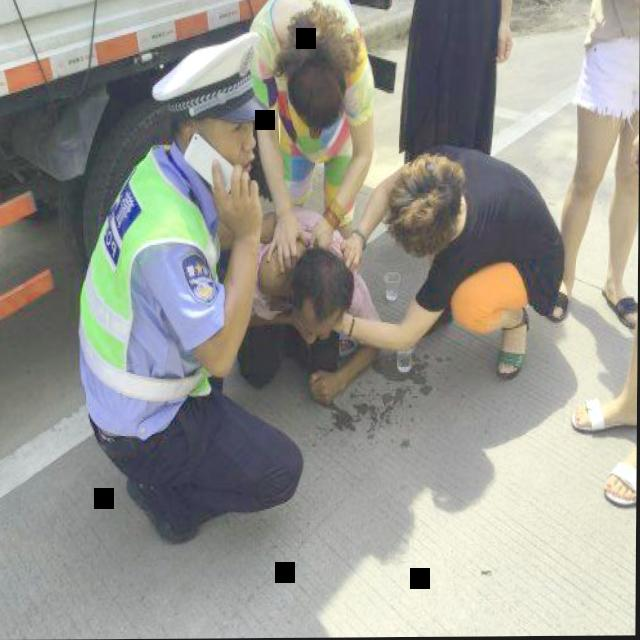Fall-Detected: (235, 187, 394, 412)
